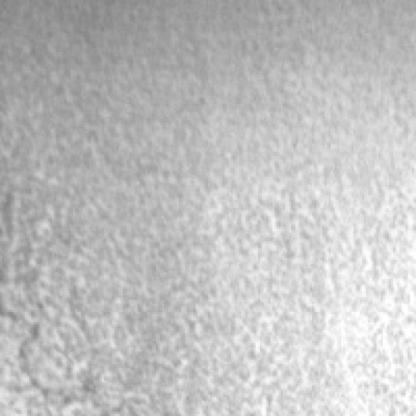pitted_surface: (4, 125, 372, 416)
